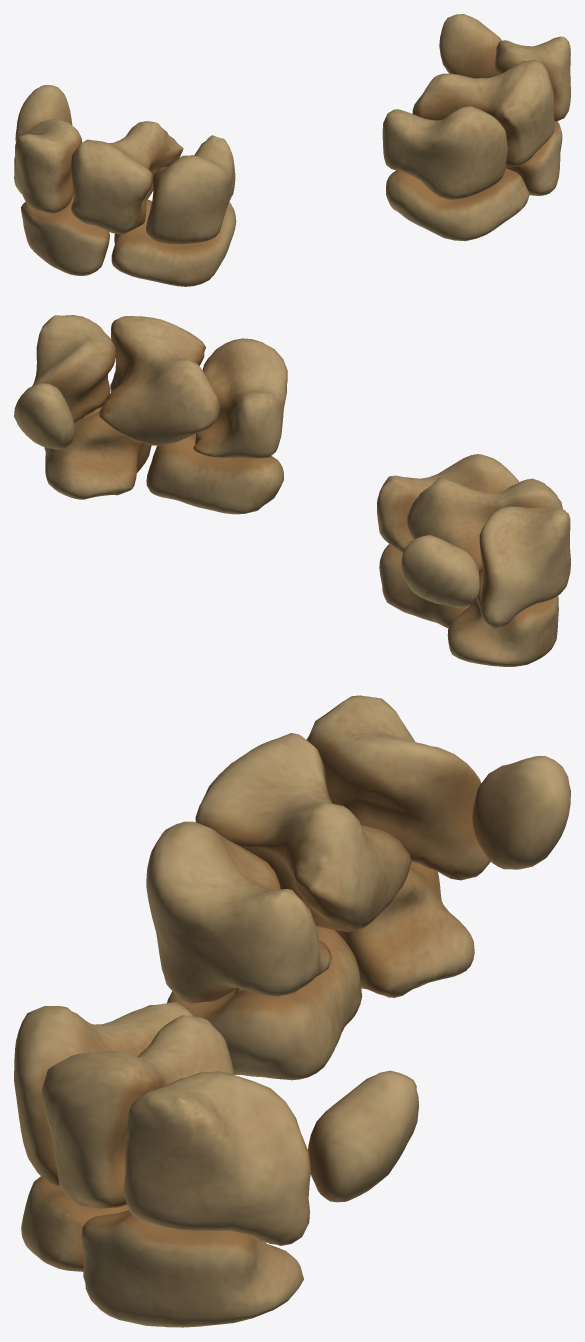
File: Carpals.glb
The picture shows the model from 3 angles, top to bottom: view 1: azimuth 30°, elevation 25°; view 2: azimuth 150°, elevation 25°; view 3: azimuth 270°, elevation 25°; orthographic projection. The views are drawn at different scales.
Visible parts, largest first — view 1: Carpals; view 2: Carpals; view 3: Carpals.
Part boxes in pixels (x1,y1,x2,y2): Carpals: (14, 14, 570, 286); Carpals: (14, 315, 570, 666); Carpals: (14, 695, 570, 1327).
Bounding box in the file's own units: 153 × 46.27 × 79.87.
Materials: 1 (1 with a texture image).
